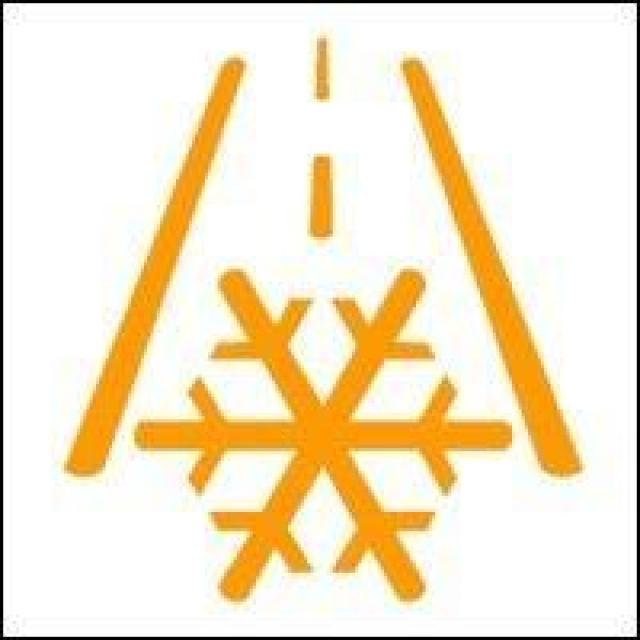kontrolka: (64, 61, 592, 591)
